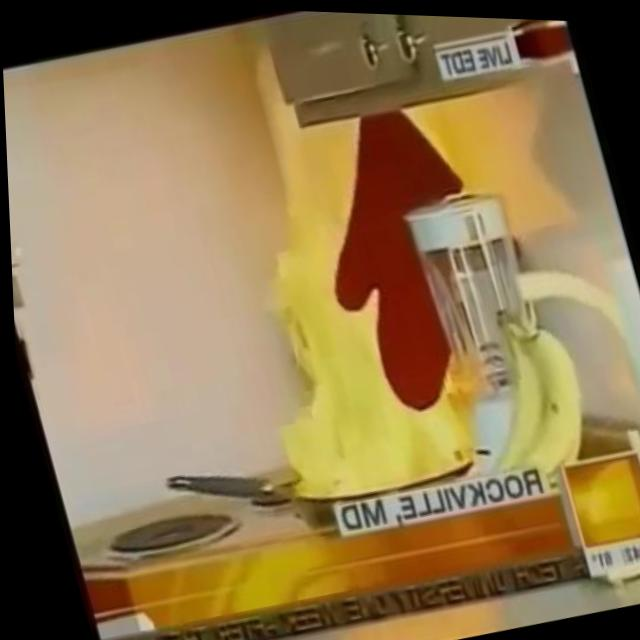fire: (186, 92, 485, 517)
